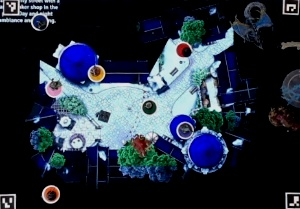blue: (29, 12, 48, 32)
green: (140, 98, 159, 116)
orange: (41, 183, 61, 204)
pink: (45, 79, 63, 98)
red: (174, 40, 193, 58)
violet: (176, 120, 193, 139)
yellow: (87, 63, 106, 82)
